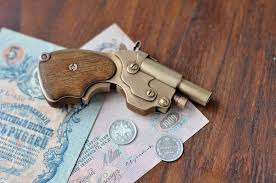gun: (35, 36, 215, 121)
